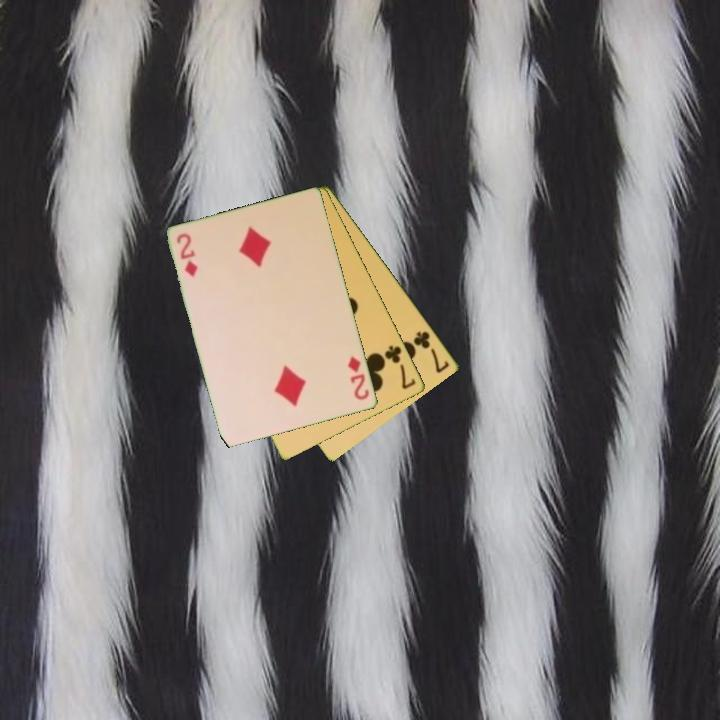2d: (344, 353, 372, 403), (173, 230, 201, 280)
7c: (410, 328, 453, 376), (381, 342, 419, 392)
